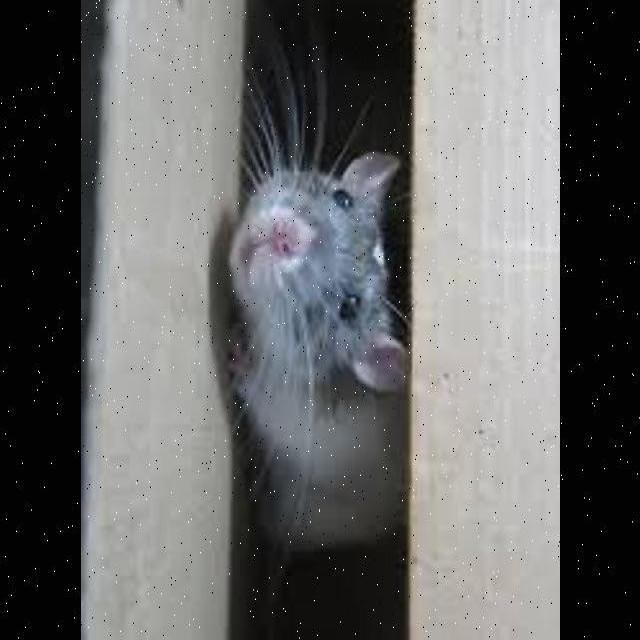rat: (225, 147, 406, 560)
